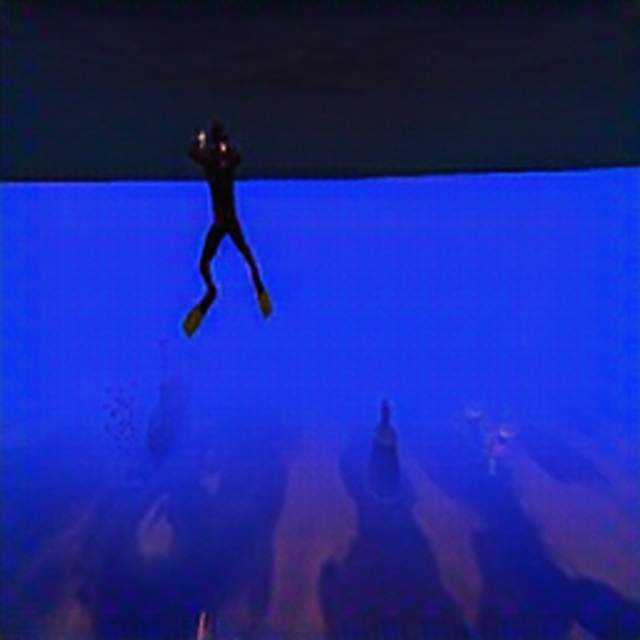diver: (185, 118, 272, 319)
